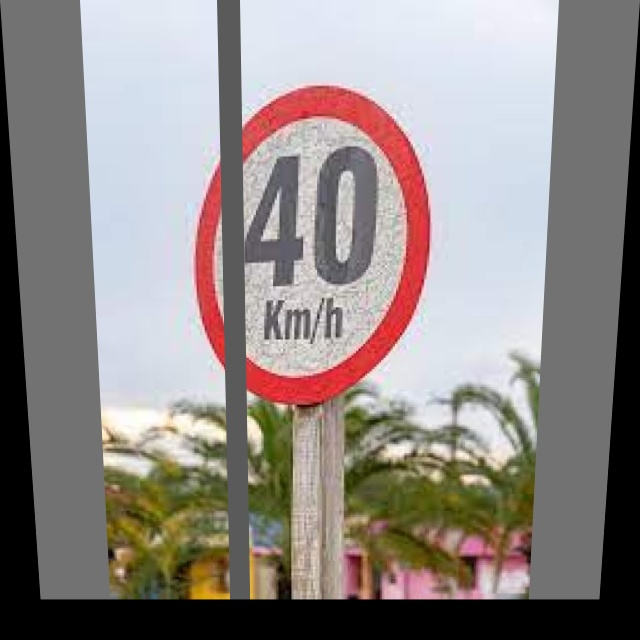Speed_Limit_40: (195, 85, 434, 392)
